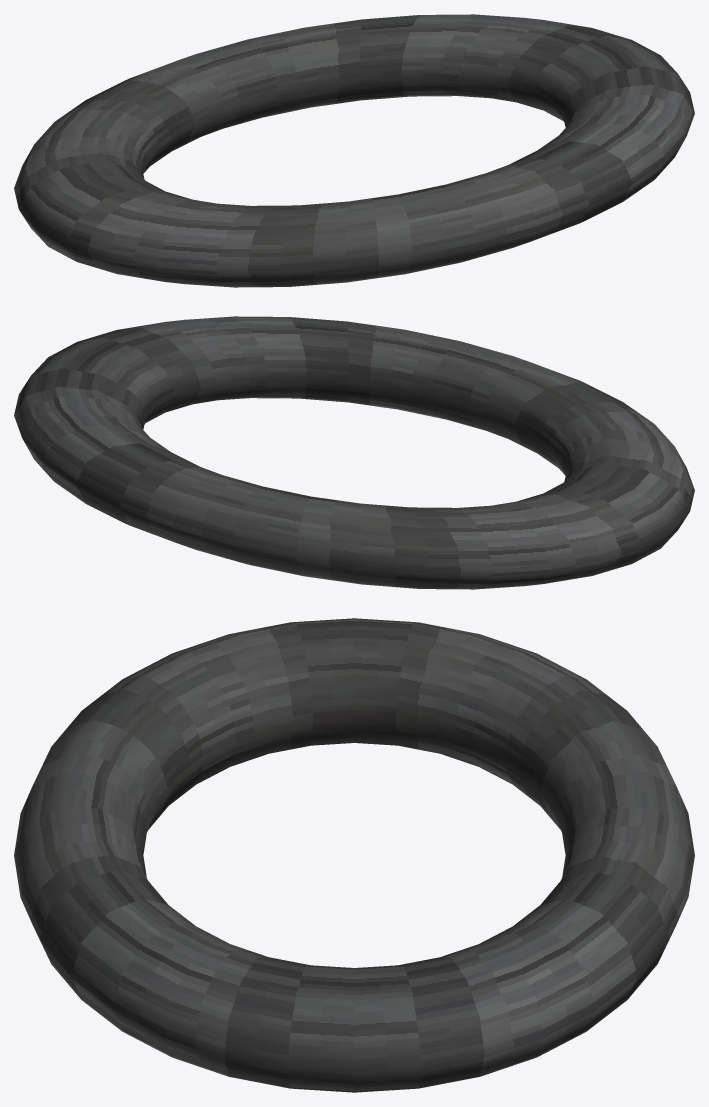
The model's file is test-hose.glb.
The picture shows the model from 3 angles, top to bottom: view 1: azimuth 30°, elevation 25°; view 2: azimuth 150°, elevation 25°; view 3: azimuth 270°, elevation 25°; orthographic projection. The views are drawn at different scales.
Parts seen in each view (by area): view 1: hose; view 2: hose; view 3: hose.
Part boxes in pixels (left/top/right/bottom): hose: left=14, top=14, right=694, bottom=287; hose: left=14, top=316, right=694, bottom=589; hose: left=14, top=618, right=694, bottom=1092.
Bounding box in the file's own units: 0.54 × 0.055 × 0.36.
1 material, 1 textured.
